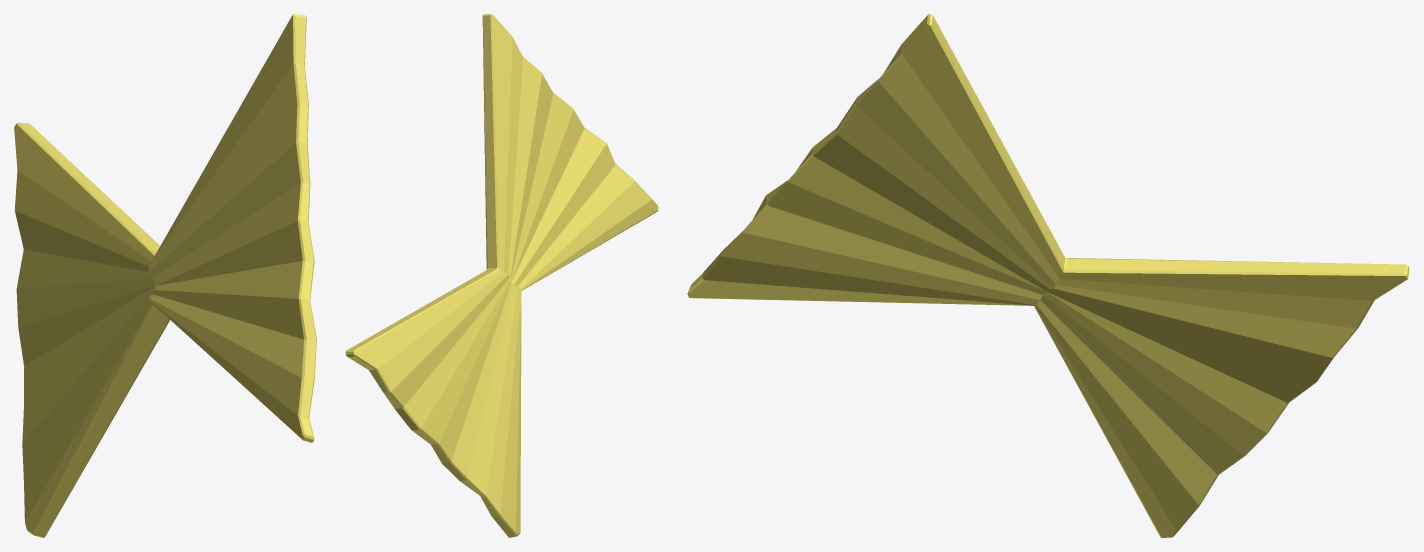
3 views of the same model, side by side, from view 1: azimuth 30°, elevation 25°; view 2: azimuth 150°, elevation 25°; view 3: azimuth 270°, elevation 25° (orthographic). The views are drawn at different scales.
Visible parts, largest first — view 1: Plane.008; view 2: Plane.008; view 3: Plane.008.
Part boxes in pixels (left/top/right/bottom): Plane.008: left=14, top=14, right=316, bottom=537; Plane.008: left=345, top=14, right=658, bottom=537; Plane.008: left=687, top=14, right=1409, bottom=537.
Size of the model in its own units: 0.2542 by 0.8529 by 0.9378.
